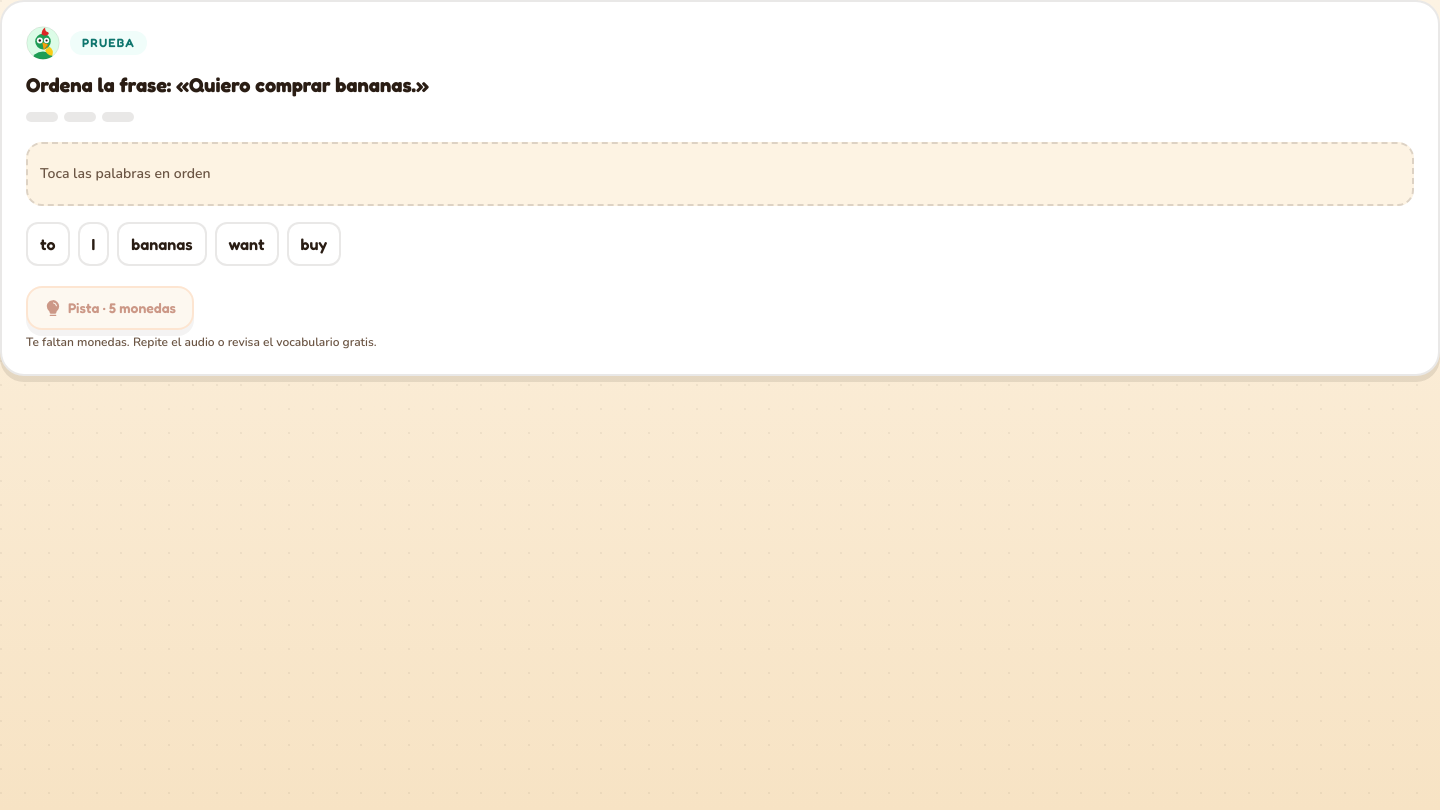
OrderChallenge › wrong order shows retry feedback
Click the button "to": (48, 244) [26, 222, 70, 266]
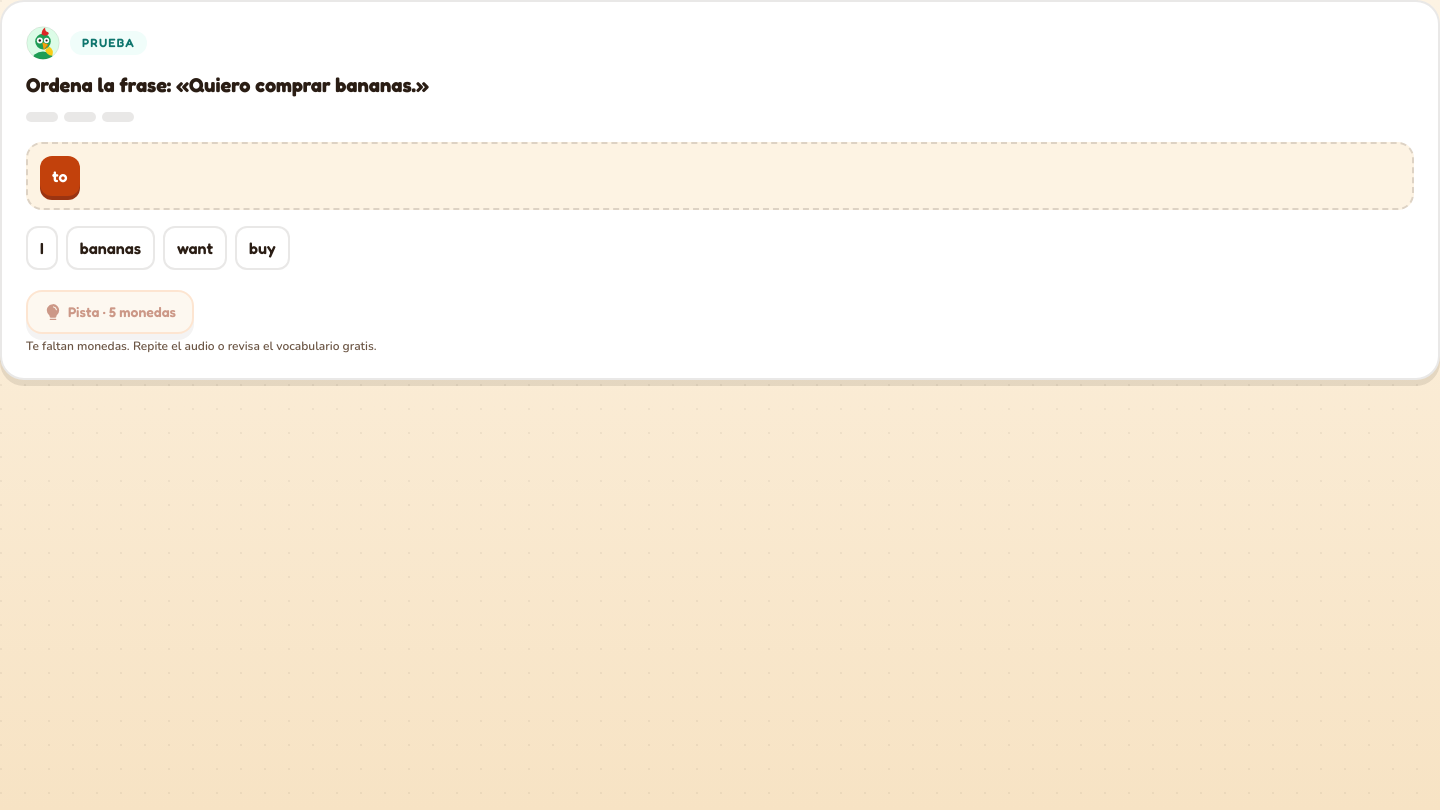
Click the button "I": (42, 248) [26, 226, 58, 270]
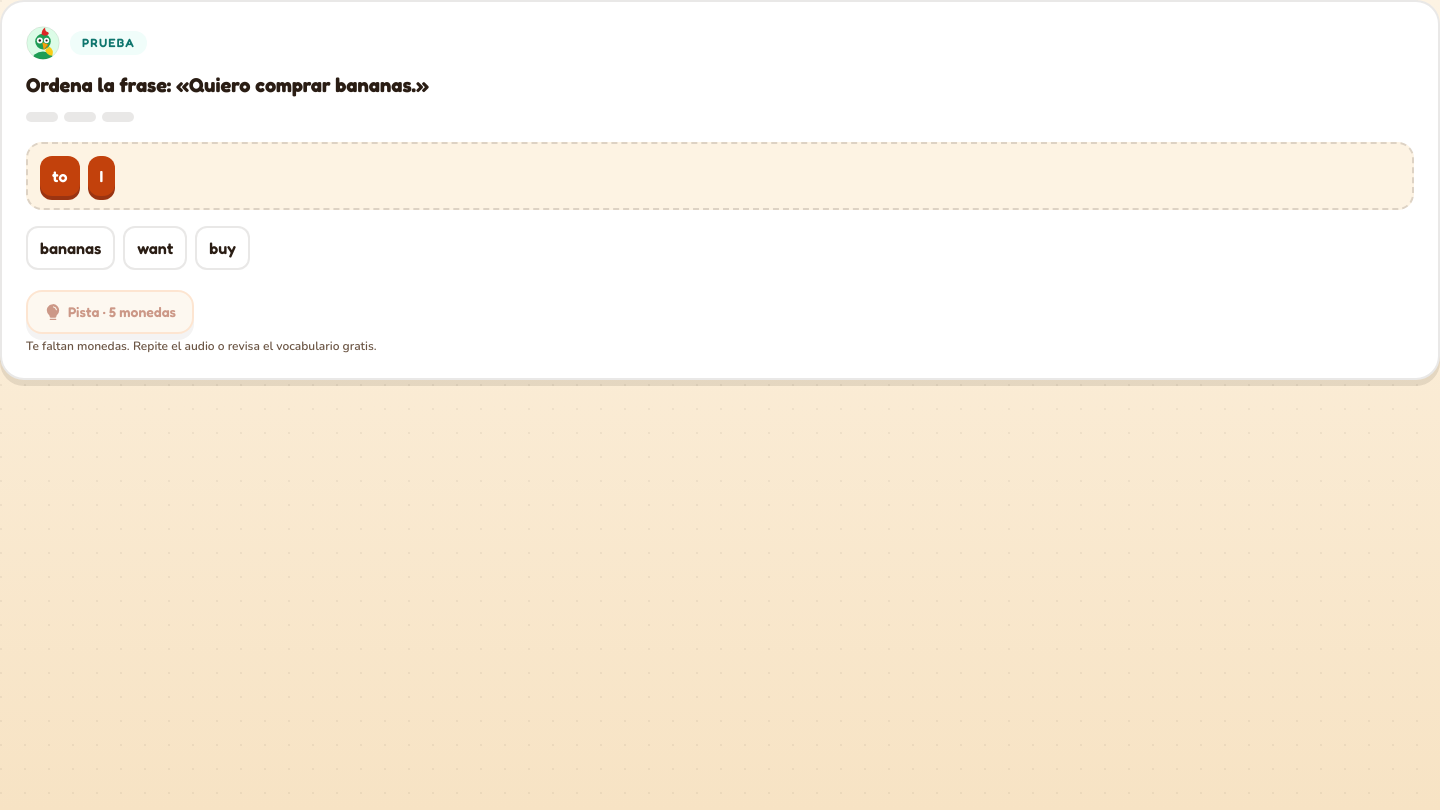
Click the button "bananas": (71, 248) [26, 226, 115, 270]
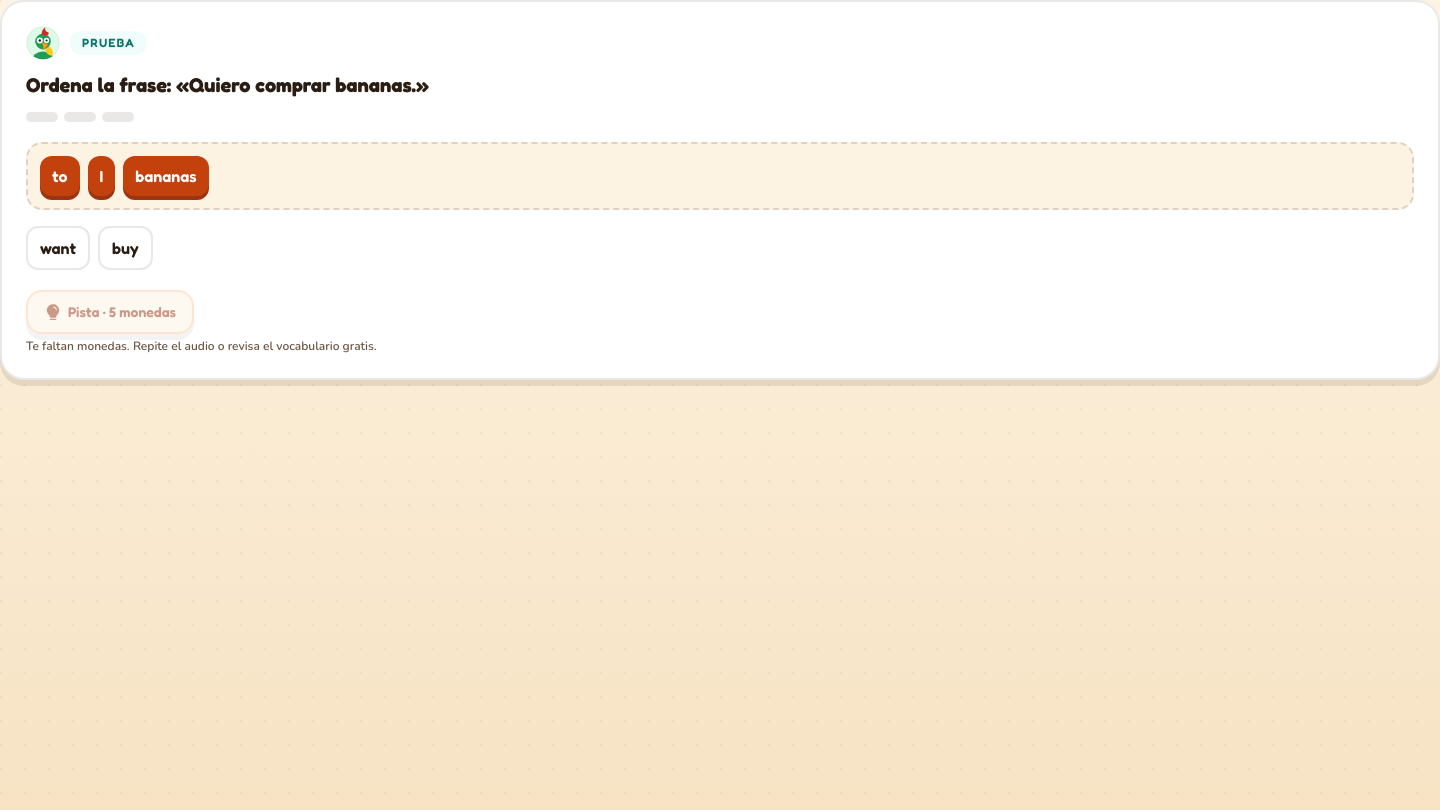
Click the button "want": (58, 248) [26, 226, 90, 270]
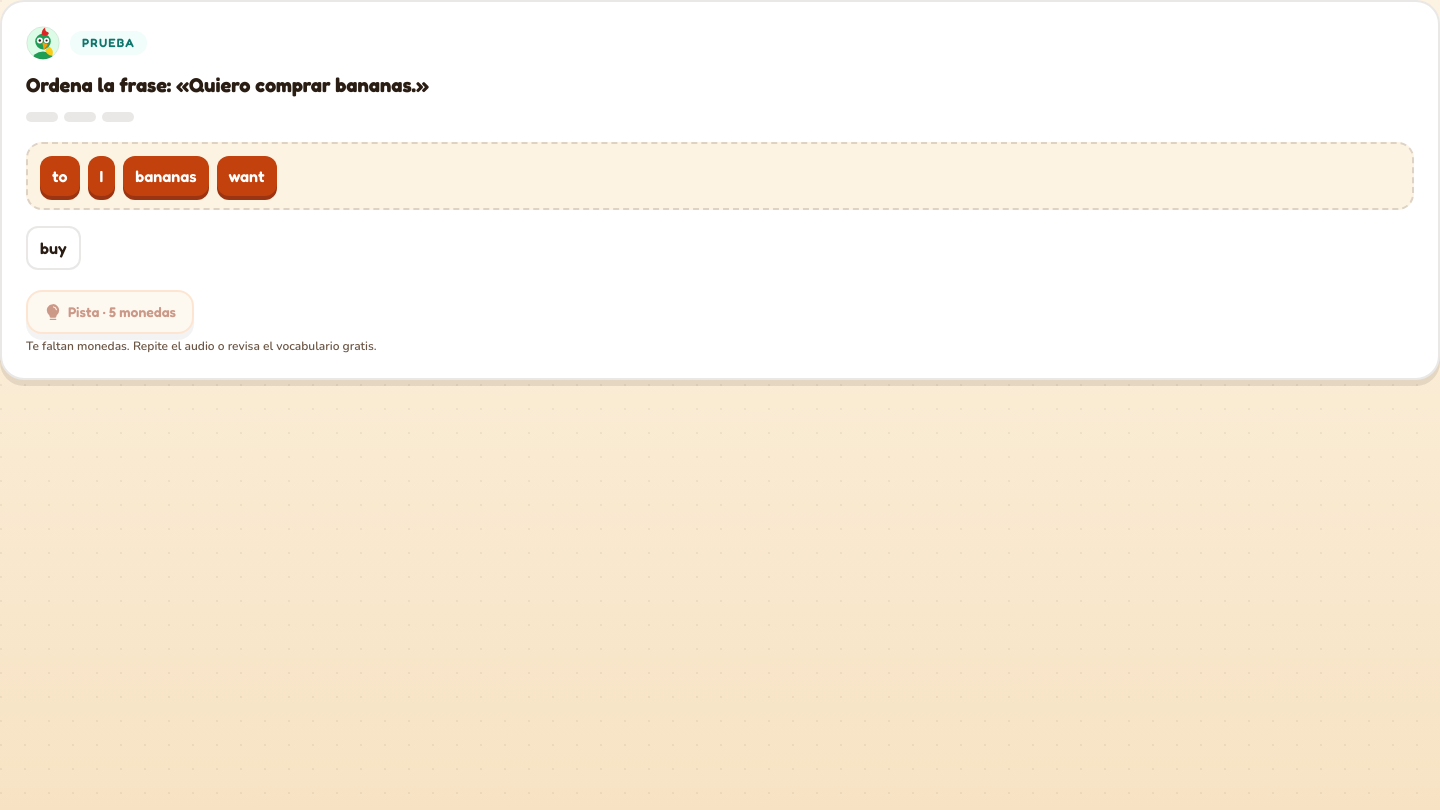
Click the button "buy": (53, 248) [26, 226, 81, 270]
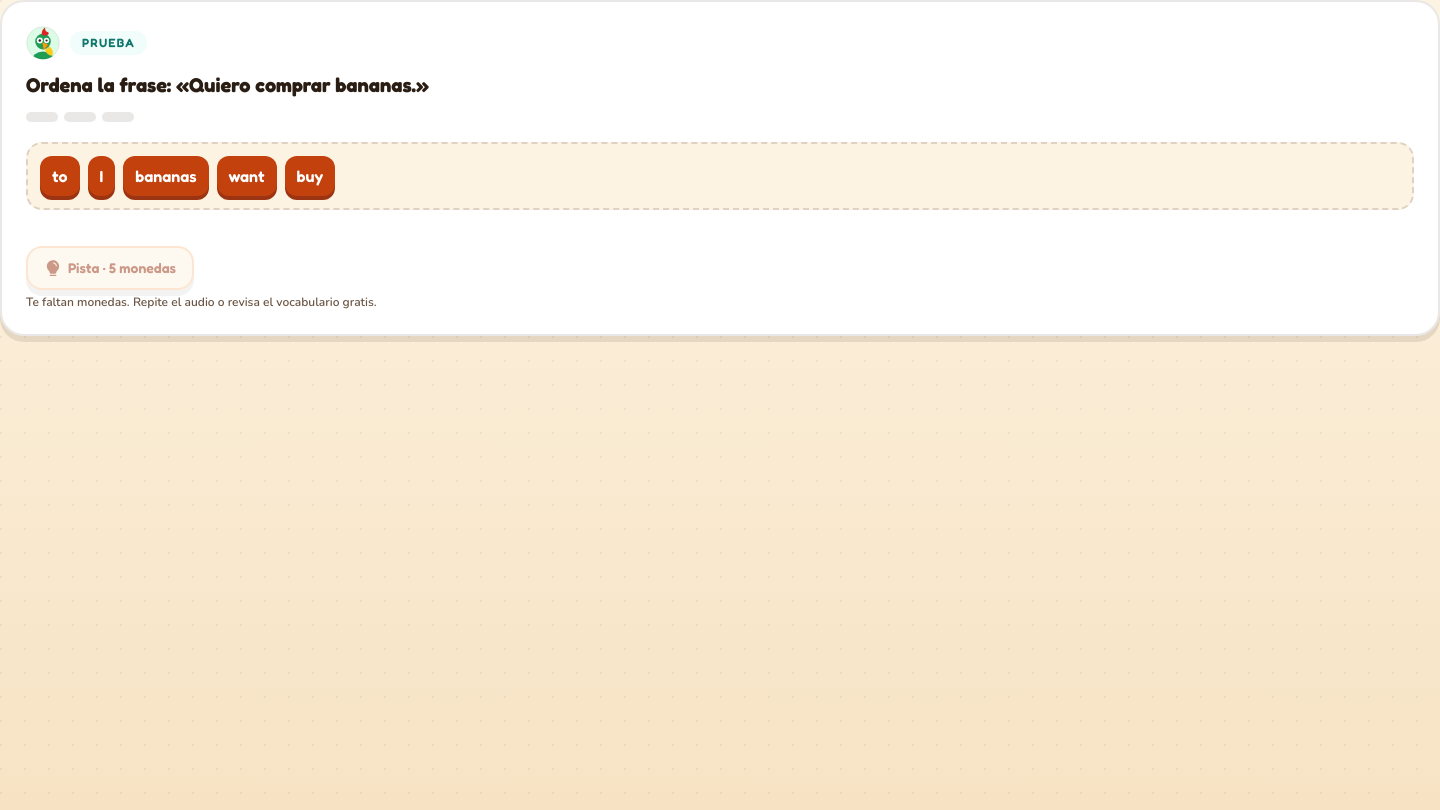
Submit the form with id "challenge-form", box [26, 142, 1414, 226]
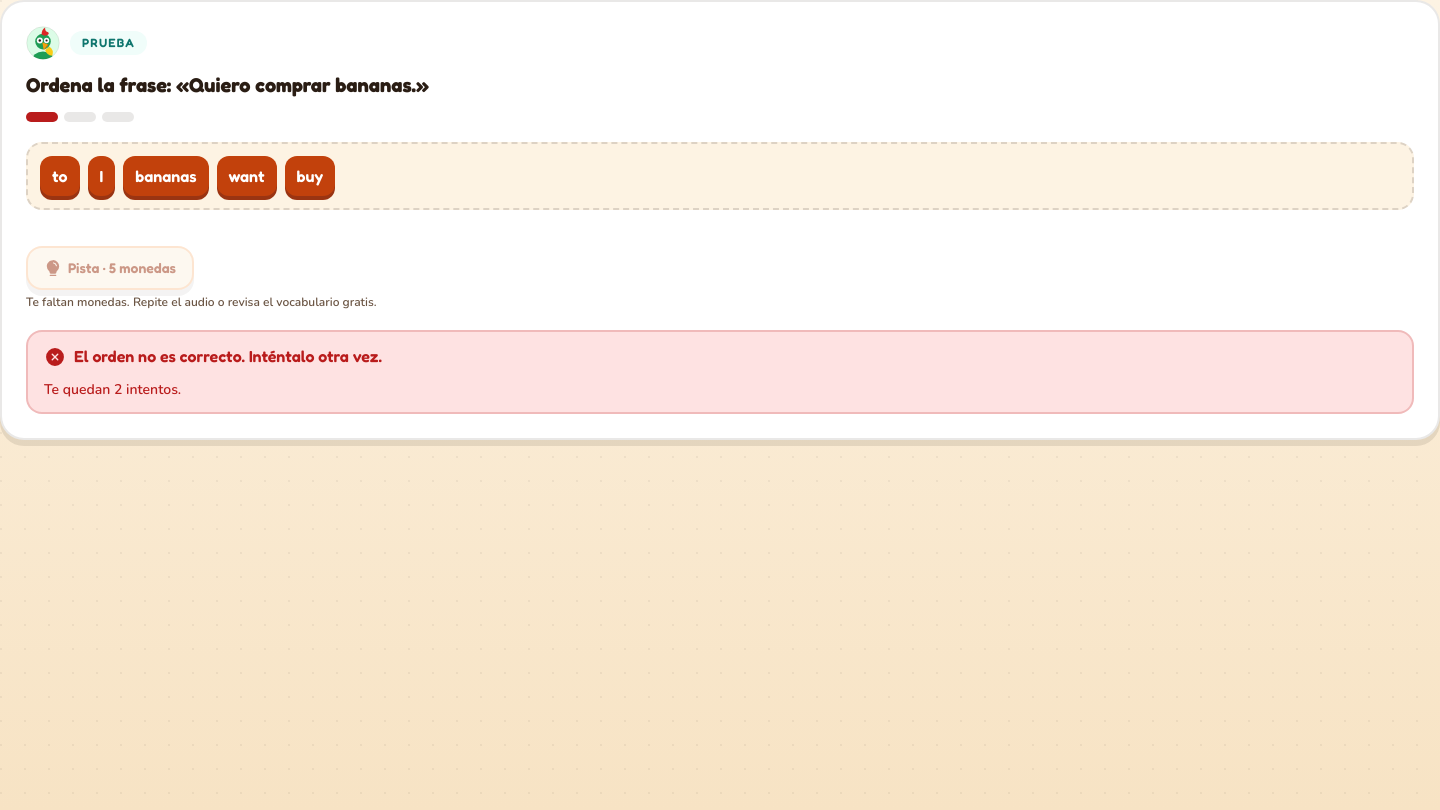
Check: the text "El orden no es correcto. Inténtalo otra vez." is shown, box [44, 346, 382, 368]
Check: the text "Te quedan 2 intentos." is shown, box [44, 380, 181, 398]
